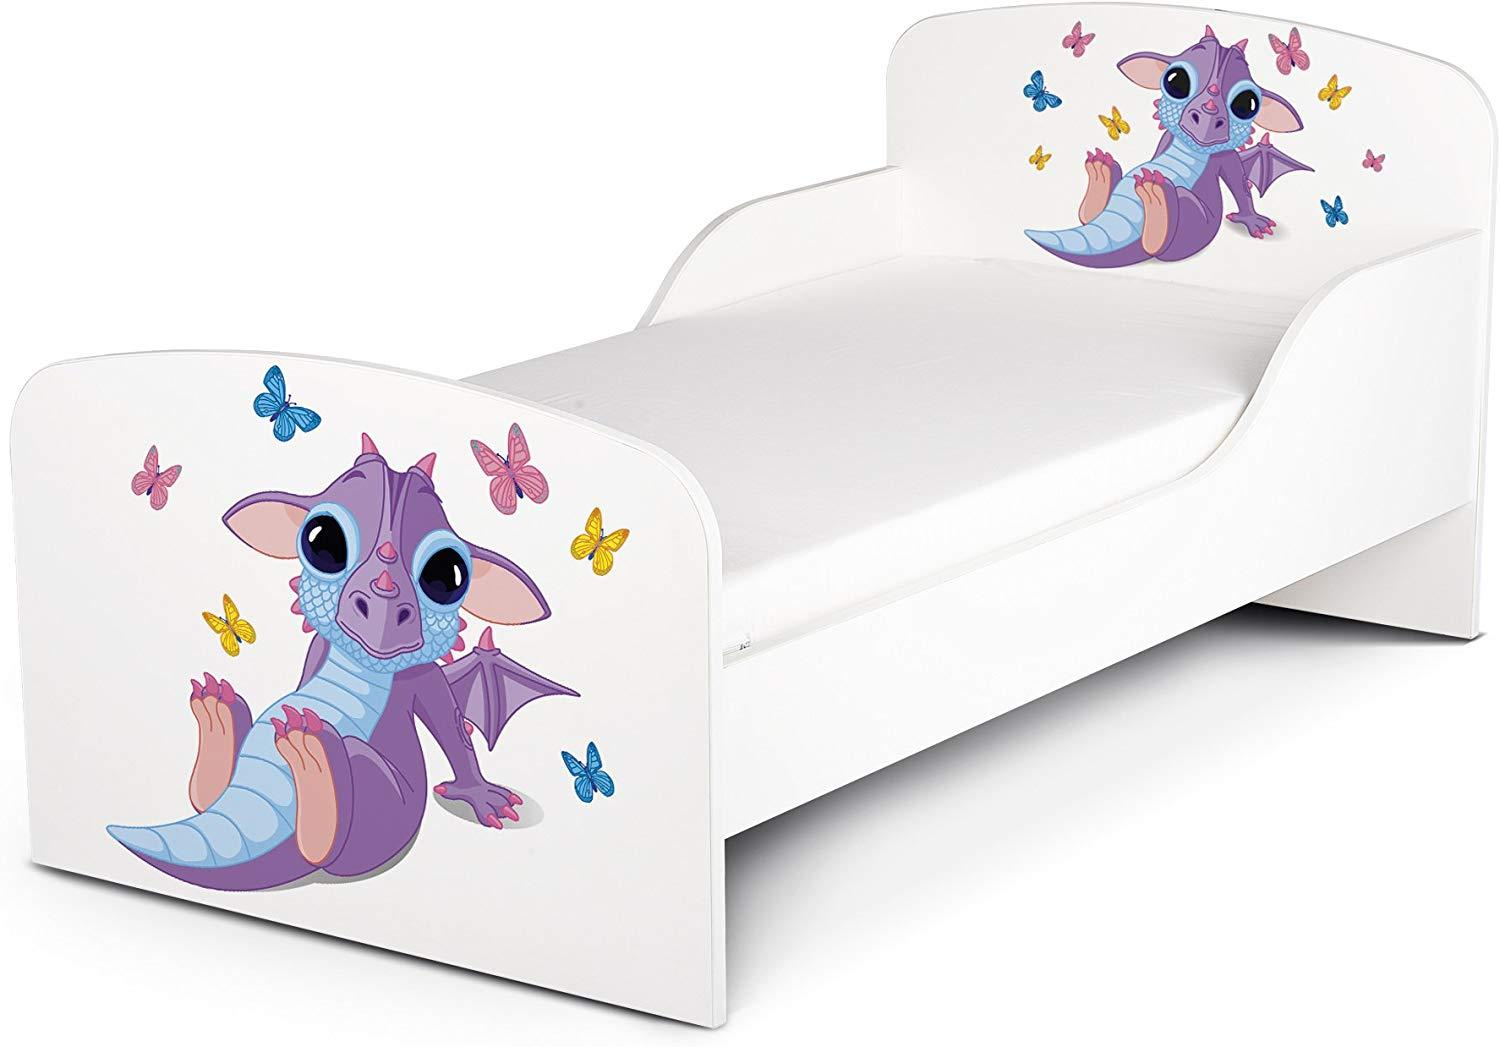bed: (0, 85, 1500, 837)
